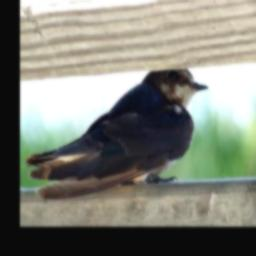Swallow: (25, 67, 209, 200)
